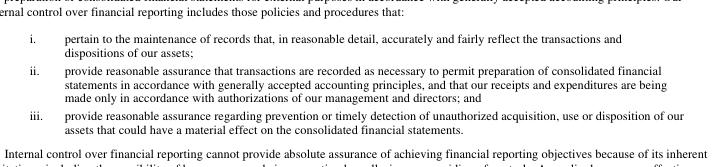table: (28, 29, 682, 136)
table column: (52, 29, 682, 136), (28, 29, 52, 136)
table row: (28, 60, 682, 105), (28, 29, 682, 60), (28, 105, 682, 136)
